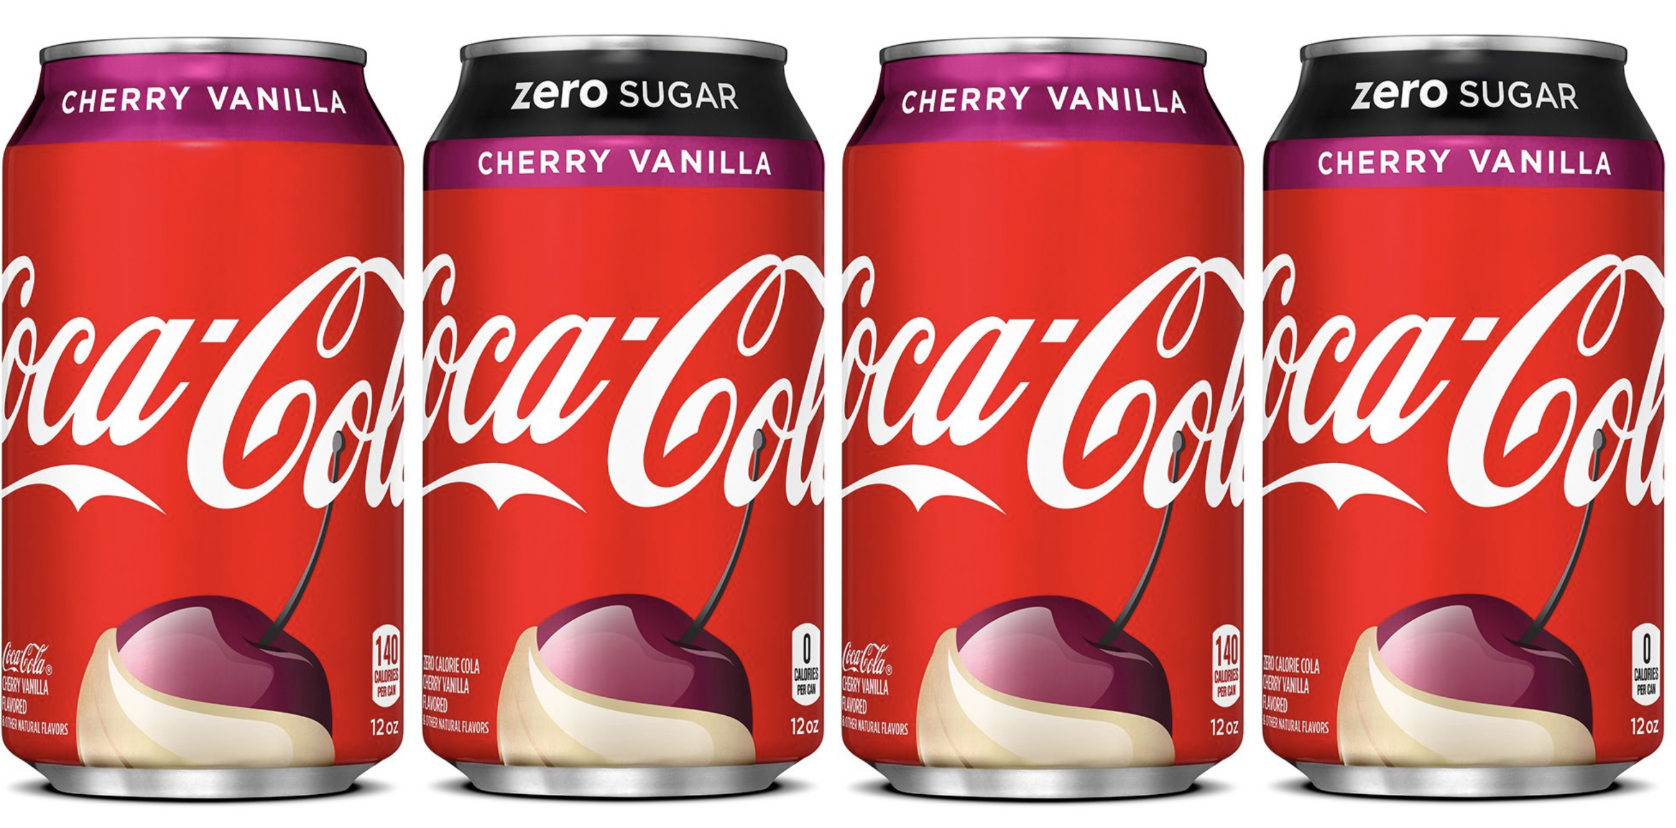Coca-Cola: (413, 30, 800, 813), (12, 35, 397, 818), (838, 1, 1223, 783), (1263, 1, 1648, 783)
